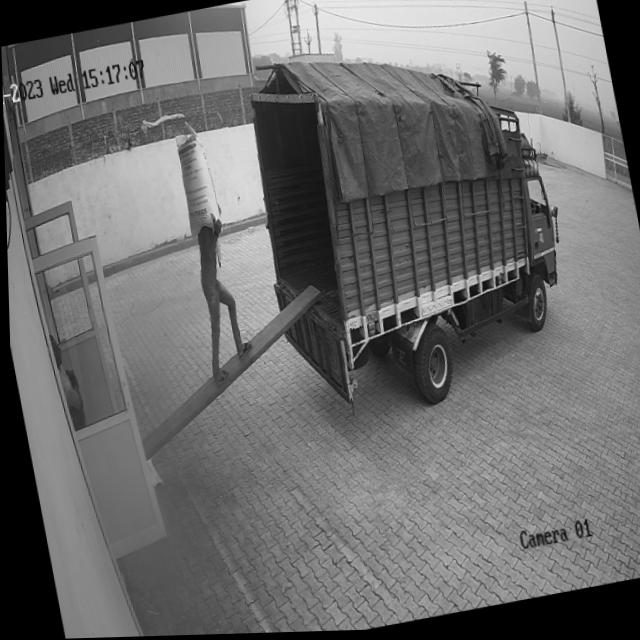sack: (169, 119, 222, 244)
